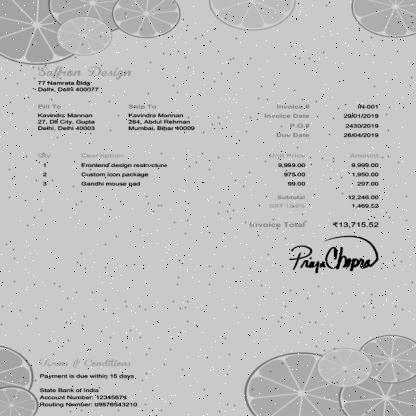Paragraph: (36, 357, 140, 409), (248, 192, 382, 230), (262, 102, 382, 140), (34, 64, 134, 94), (124, 102, 198, 133), (34, 102, 98, 134)
Table: (34, 151, 382, 190)
